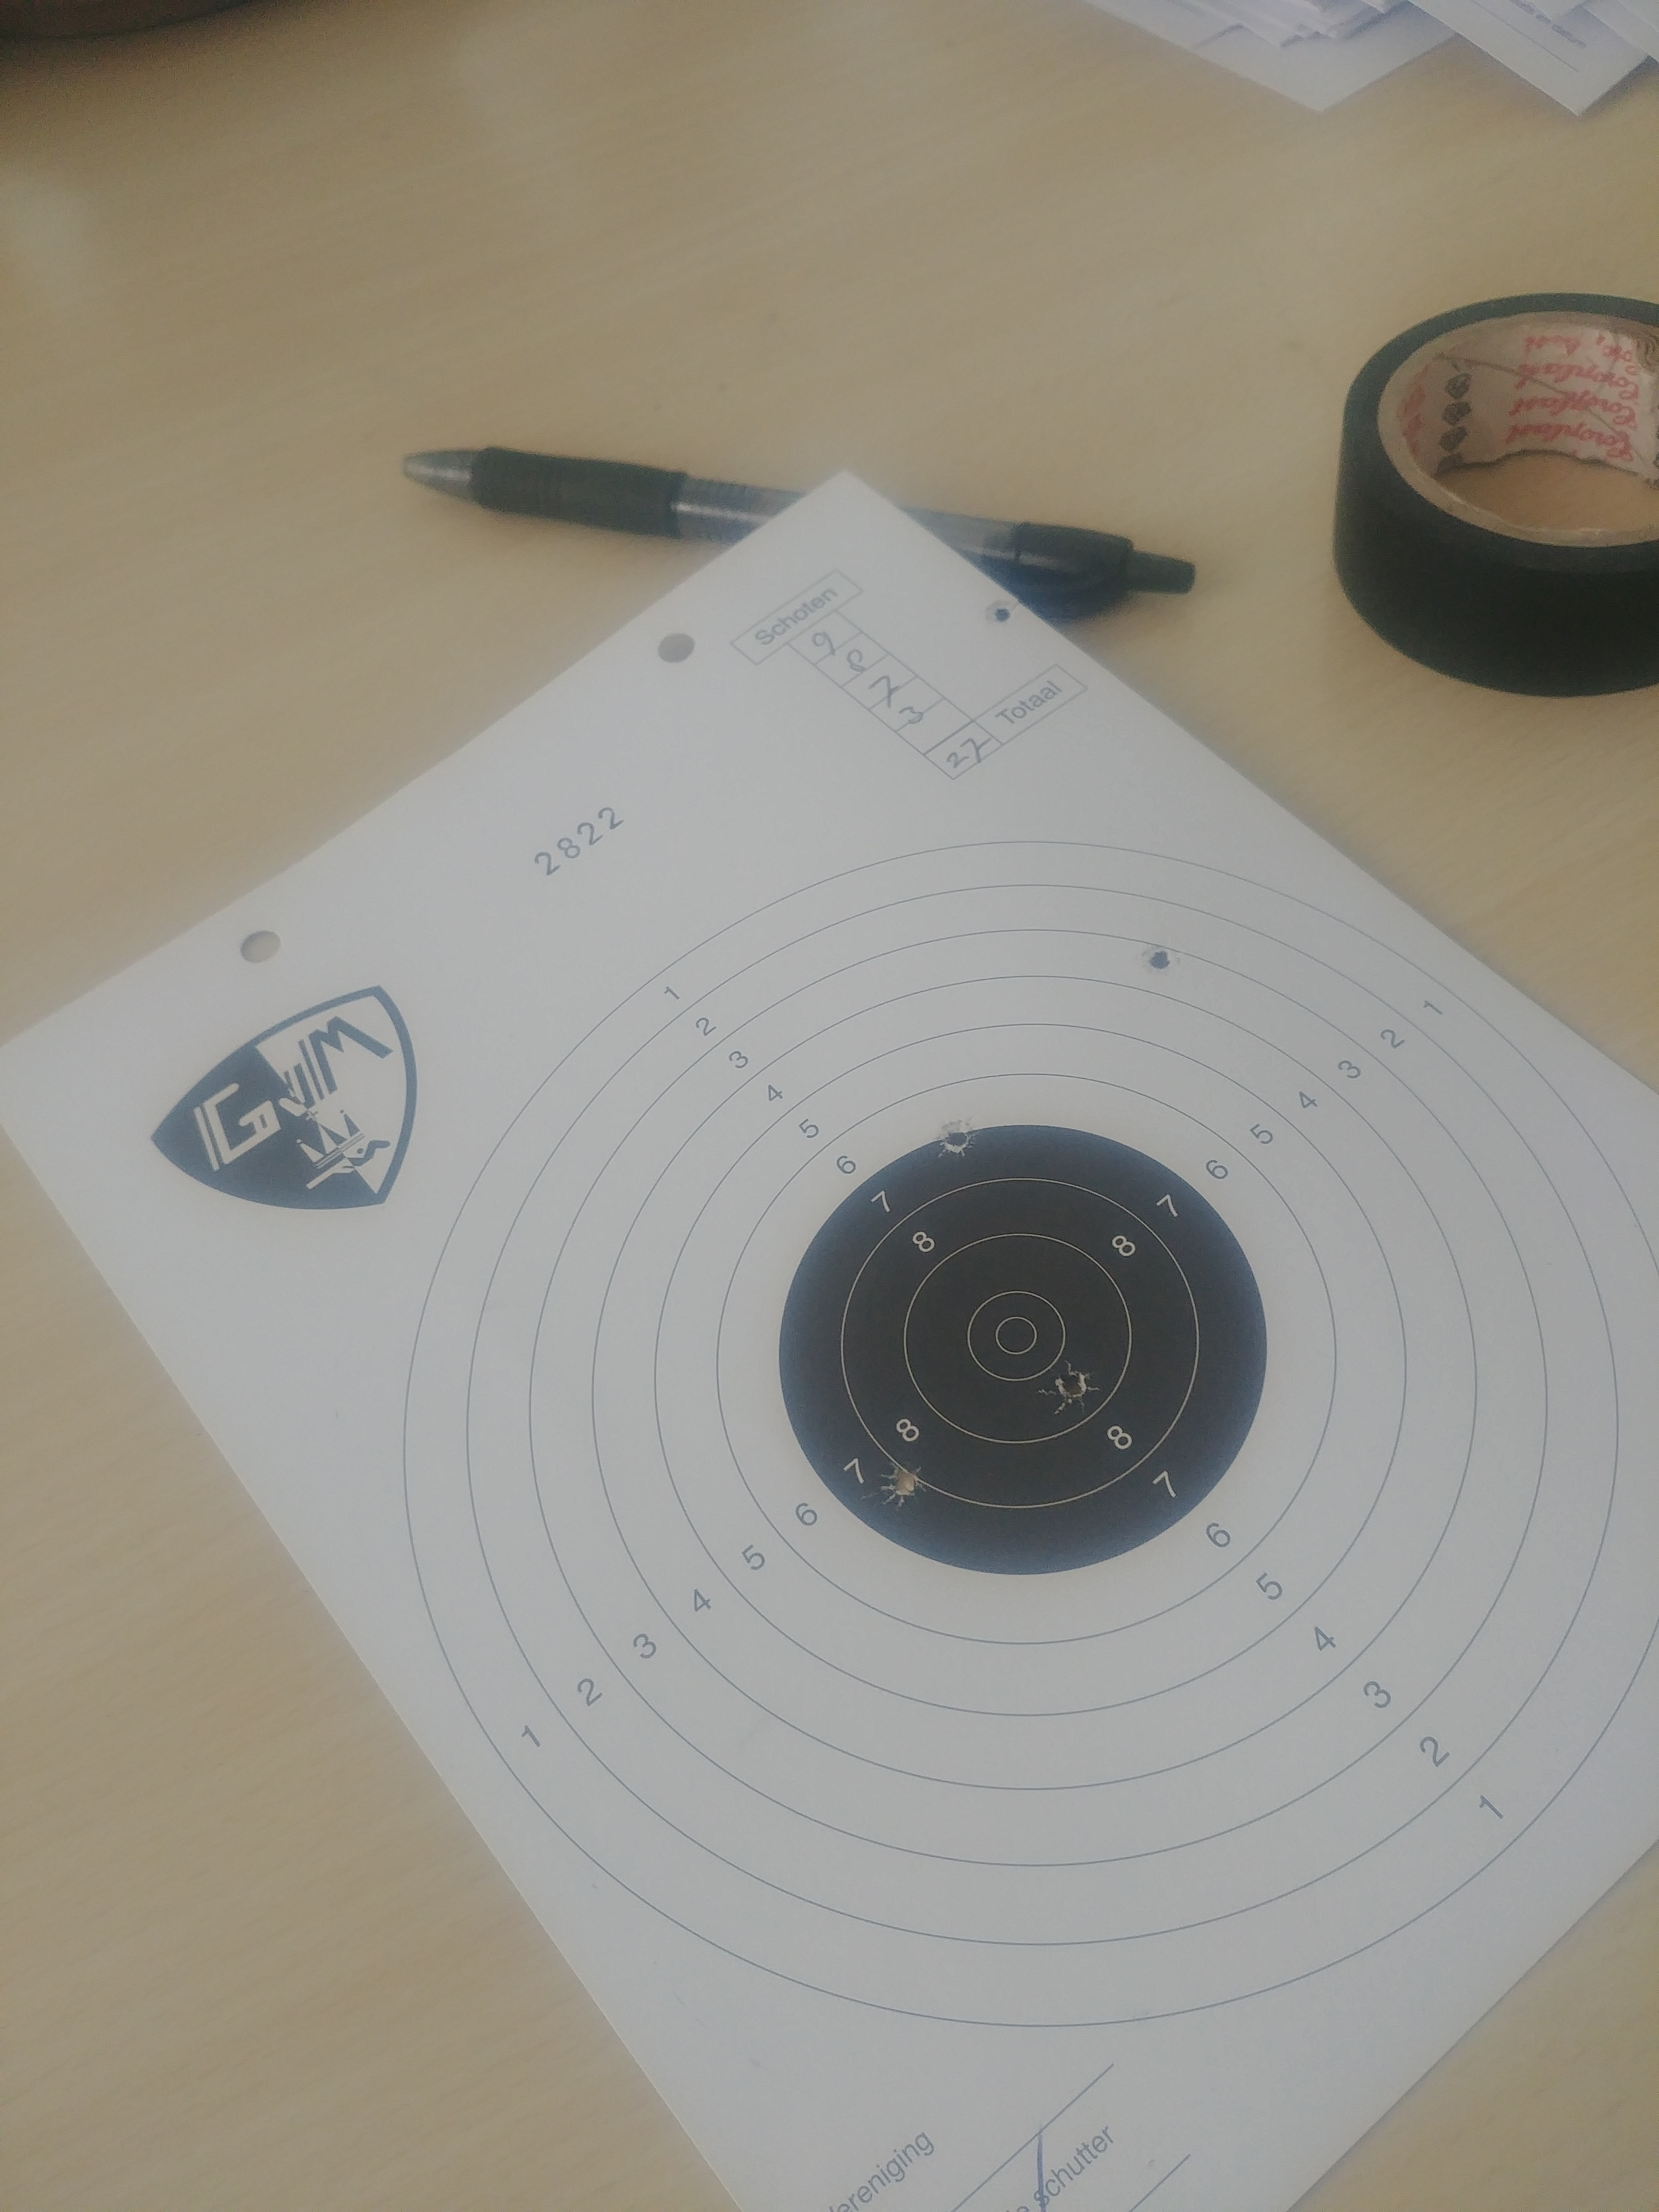center: (777, 1123, 1270, 1573)
out: (399, 834, 1659, 2031)
shot: (1047, 1362, 1093, 1409), (880, 1461, 925, 1507), (936, 1115, 978, 1151), (1141, 941, 1180, 977)
target: (965, 1289, 1068, 1385)
